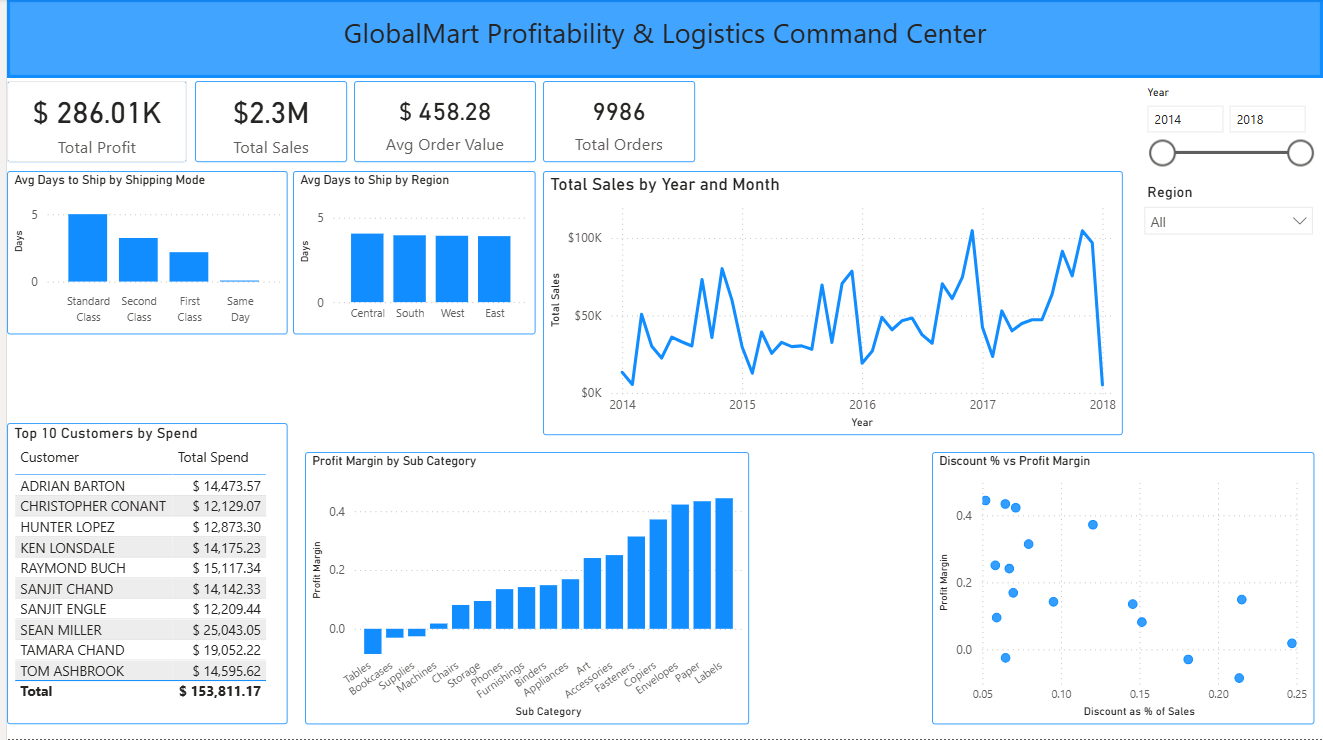

The page's visual inventory and layout, read from the dashboard file:
{"tool":"powerbi","page":{"name":"Page 1","canvas":[1280,720],"ordinal":0},"visuals":[{"type":"card","fields":{"Values":["_Measures.Total Profit"]},"box":[0,79.8,175.1,78.8],"z":0},{"type":"shape","box":[0,0,1280,76.8],"z":1000},{"type":"clusteredColumnChart","title":"Profit Margin by Sub Category","fields":{"Category":["dim_products.sub_category"],"Y":["_Measures.Profit Margin"]},"box":[289.8,440.6,431.9,264.6],"z":2000},{"type":"clusteredColumnChart","title":"Avg Days to Ship by Region","fields":{"Category":["fact_sales.region"],"Y":["_Measures.Average delivery days"]},"box":[278.2,167.3,236.4,158.5],"z":3000},{"type":"tableEx","title":"Top 10 Customers by Spend","fields":{"Values":["dim_customer.customer_name","_Measures.Total Spend"]},"box":[0,412.4,273.3,292.8],"z":4000},{"type":"scatterChart","title":"Discount % vs Profit Margin","fields":{"X":["_Measures.Discount as % of Sales"],"Y":["_Measures.Profit Margin"],"Category":["dim_products.sub_category"]},"box":[899.7,440.6,371.6,264.6],"z":5000},{"type":"slicer","fields":{"Values":["dim_date.full_date.Variation.Date Hierarchy.Year"]},"box":[1096.2,79.8,183.8,94.3],"z":6000},{"type":"slicer","fields":{"Values":["fact_sales.region"]},"box":[1096.2,174.1,183.8,68.1],"z":7000},{"type":"textbox","box":[238.3,8.8,803.4,60.3],"z":8000},{"type":"card","fields":{"Values":["Sum(fact_sales.sales)"]},"box":[182.9,79.8,147.8,78.8],"z":9000},{"type":"card","fields":{"Values":["Count(fact_sales.sales_id)"]},"box":[521.3,79.8,147.8,78.8],"z":10000},{"type":"card","fields":{"Values":["_Measures.Avg Order Value"]},"box":[337.5,79.8,177,78.8],"z":11000},{"type":"clusteredColumnChart","title":"Avg Days to Ship by Shipping Mode","fields":{"Y":["_Measures.Average delivery days"],"Category":["fact_sales.ship_mode"]},"box":[0,167.3,273.3,158.5],"z":12000},{"type":"lineChart","fields":{"Y":["Sum(fact_sales.sales)"],"Category":["dim_date.date_string.Variation.Date Hierarchy.Year","dim_date.date_string.Variation.Date Hierarchy.Month"]},"box":[521.3,167.3,564.1,256.8],"z":12001}]}

Visuals, with their boxes in screenshot pixels (x1, y1, x2, y2), scaled from the page's 1280x720 canvas onto the 1323x740 screenshot:
card - _Measures.Total Profit: x1=0, y1=82, x2=181, y2=163
shape: x1=0, y1=0, x2=1322, y2=79
"Profit Margin by Sub Category" clusteredColumnChart: x1=300, y1=453, x2=746, y2=725
"Avg Days to Ship by Region" clusteredColumnChart: x1=288, y1=172, x2=532, y2=335
"Top 10 Customers by Spend" tableEx: x1=0, y1=424, x2=282, y2=725
"Discount % vs Profit Margin" scatterChart: x1=930, y1=453, x2=1314, y2=725
slicer - dim_date.full_date.Variation.Date Hierarchy.Year: x1=1133, y1=82, x2=1322, y2=179
slicer - fact_sales.region: x1=1133, y1=179, x2=1322, y2=249
textbox: x1=246, y1=9, x2=1077, y2=71
card - Sum(fact_sales.sales): x1=189, y1=82, x2=342, y2=163
card - Count(fact_sales.sales_id): x1=539, y1=82, x2=692, y2=163
card - _Measures.Avg Order Value: x1=349, y1=82, x2=532, y2=163
"Avg Days to Ship by Shipping Mode" clusteredColumnChart: x1=0, y1=172, x2=282, y2=335
lineChart - Sum(fact_sales.sales) x dim_date.date_string.Variation.Date Hierarchy.Year: x1=539, y1=172, x2=1122, y2=436
